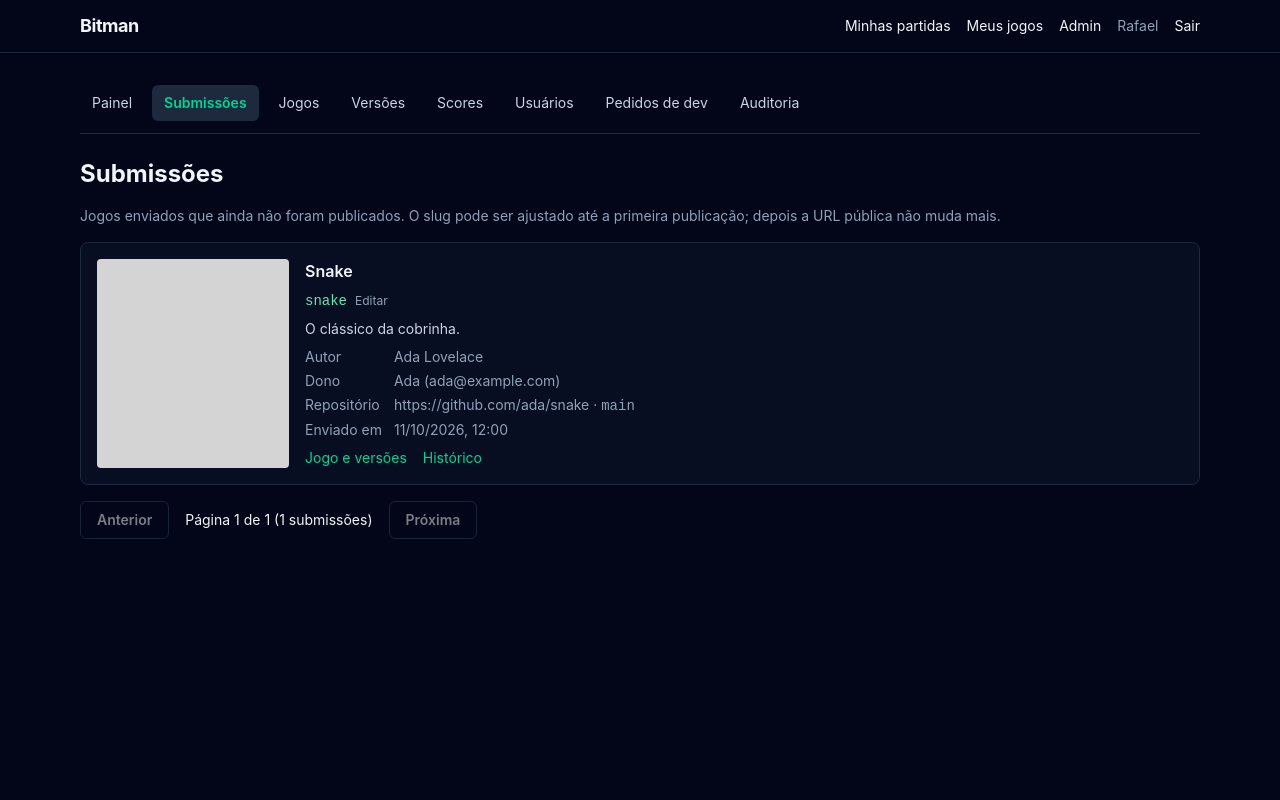
SubmissionsPage › ajusta o slug e recarrega a fila
Step 1. Click the button with aria-label "Editar slug de Snake" → [371, 301], box [355,293,388,309]
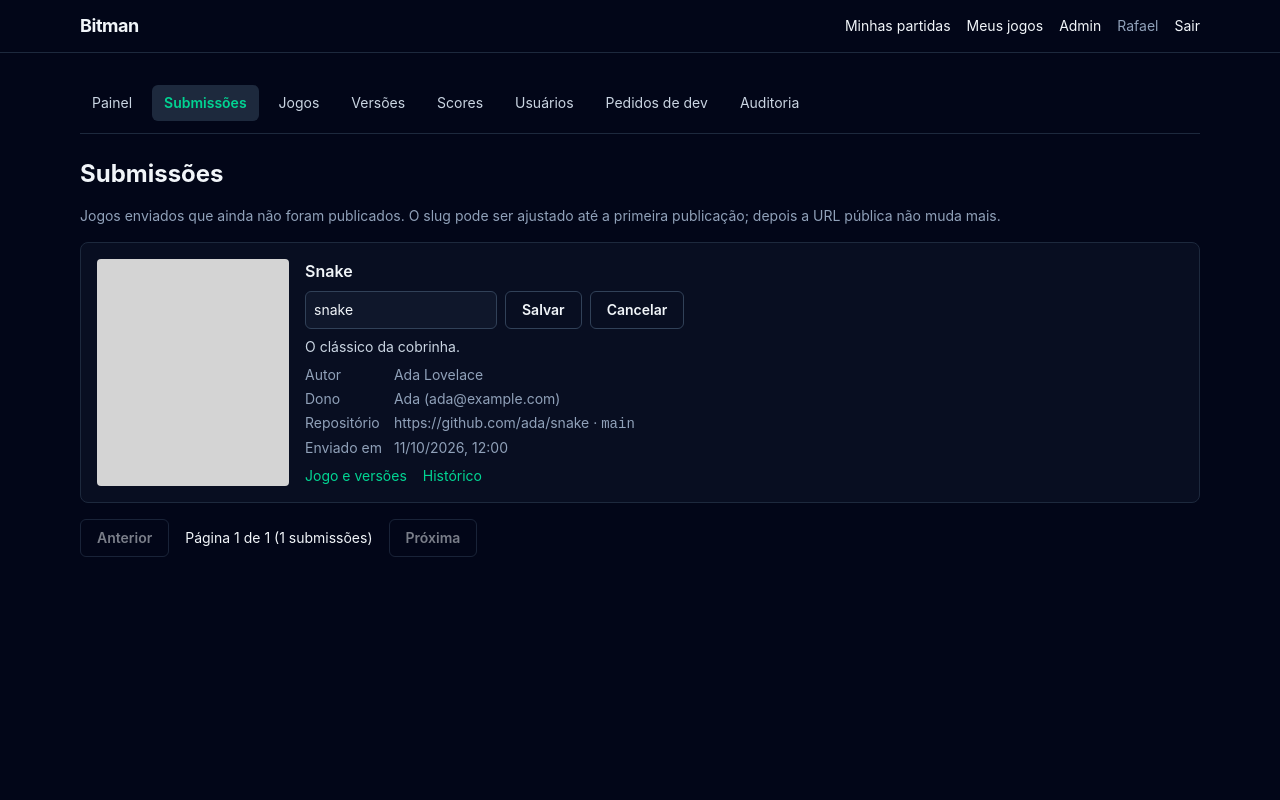
Step 2. Replace the text in the field named "Novo slug de Snake" with "snake-classico" → [401, 310], box [305,291,497,329]
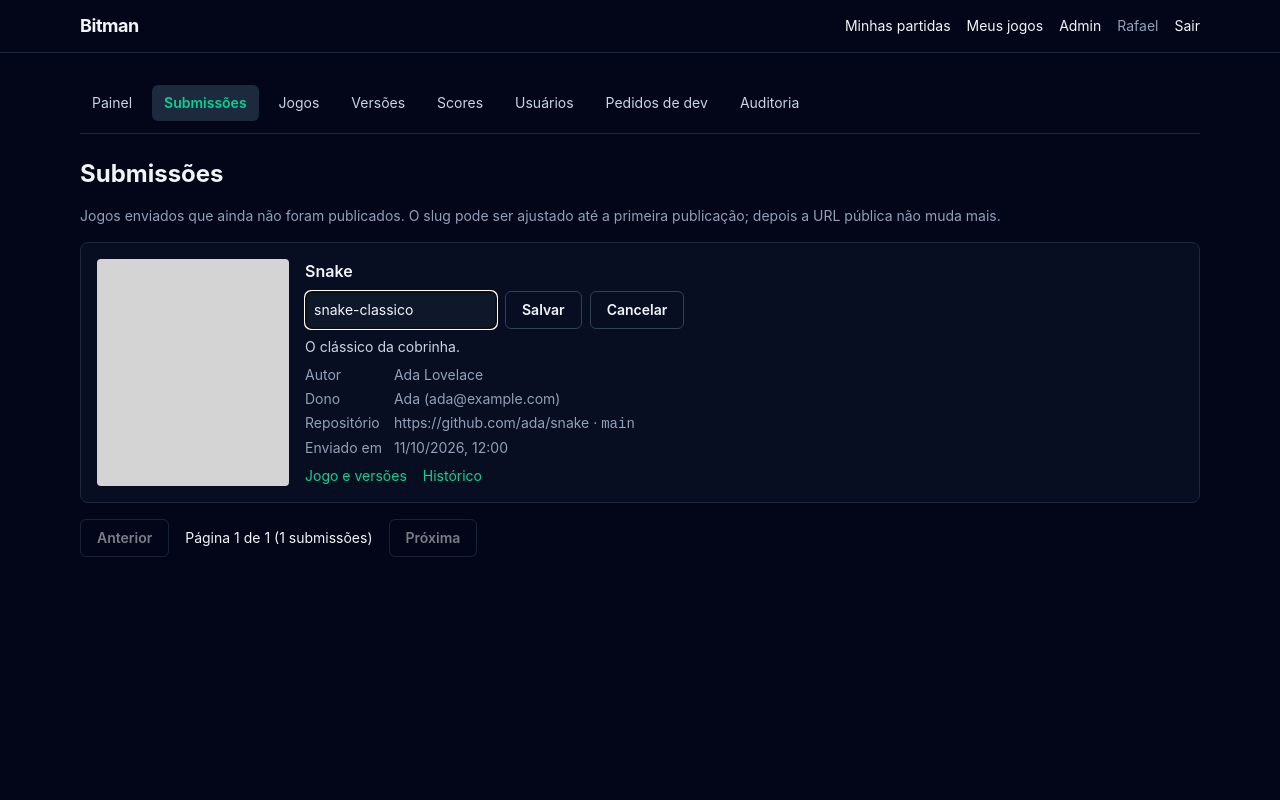
Step 3. Click the button "Salvar" → [543, 310], box [505,291,582,329]
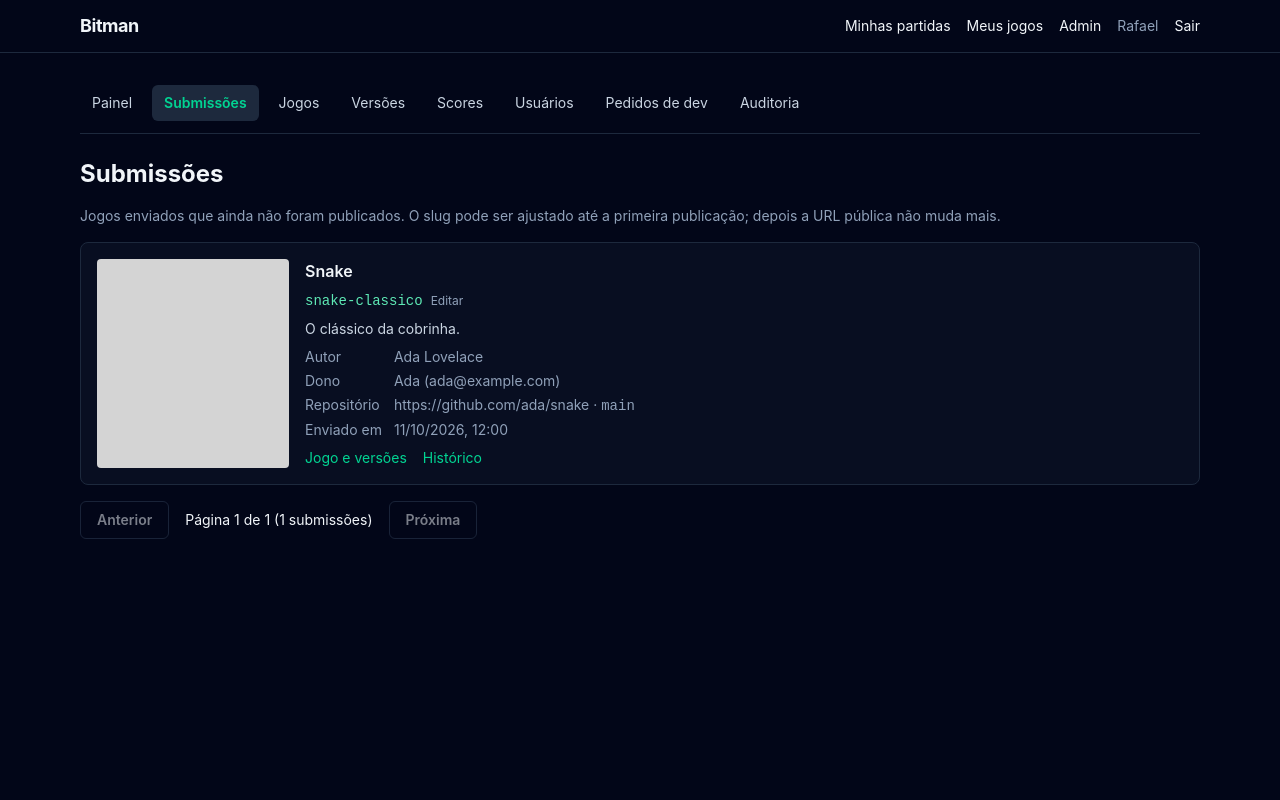
expect the text "snake-classico" is shown: met, box [305,291,423,311]
